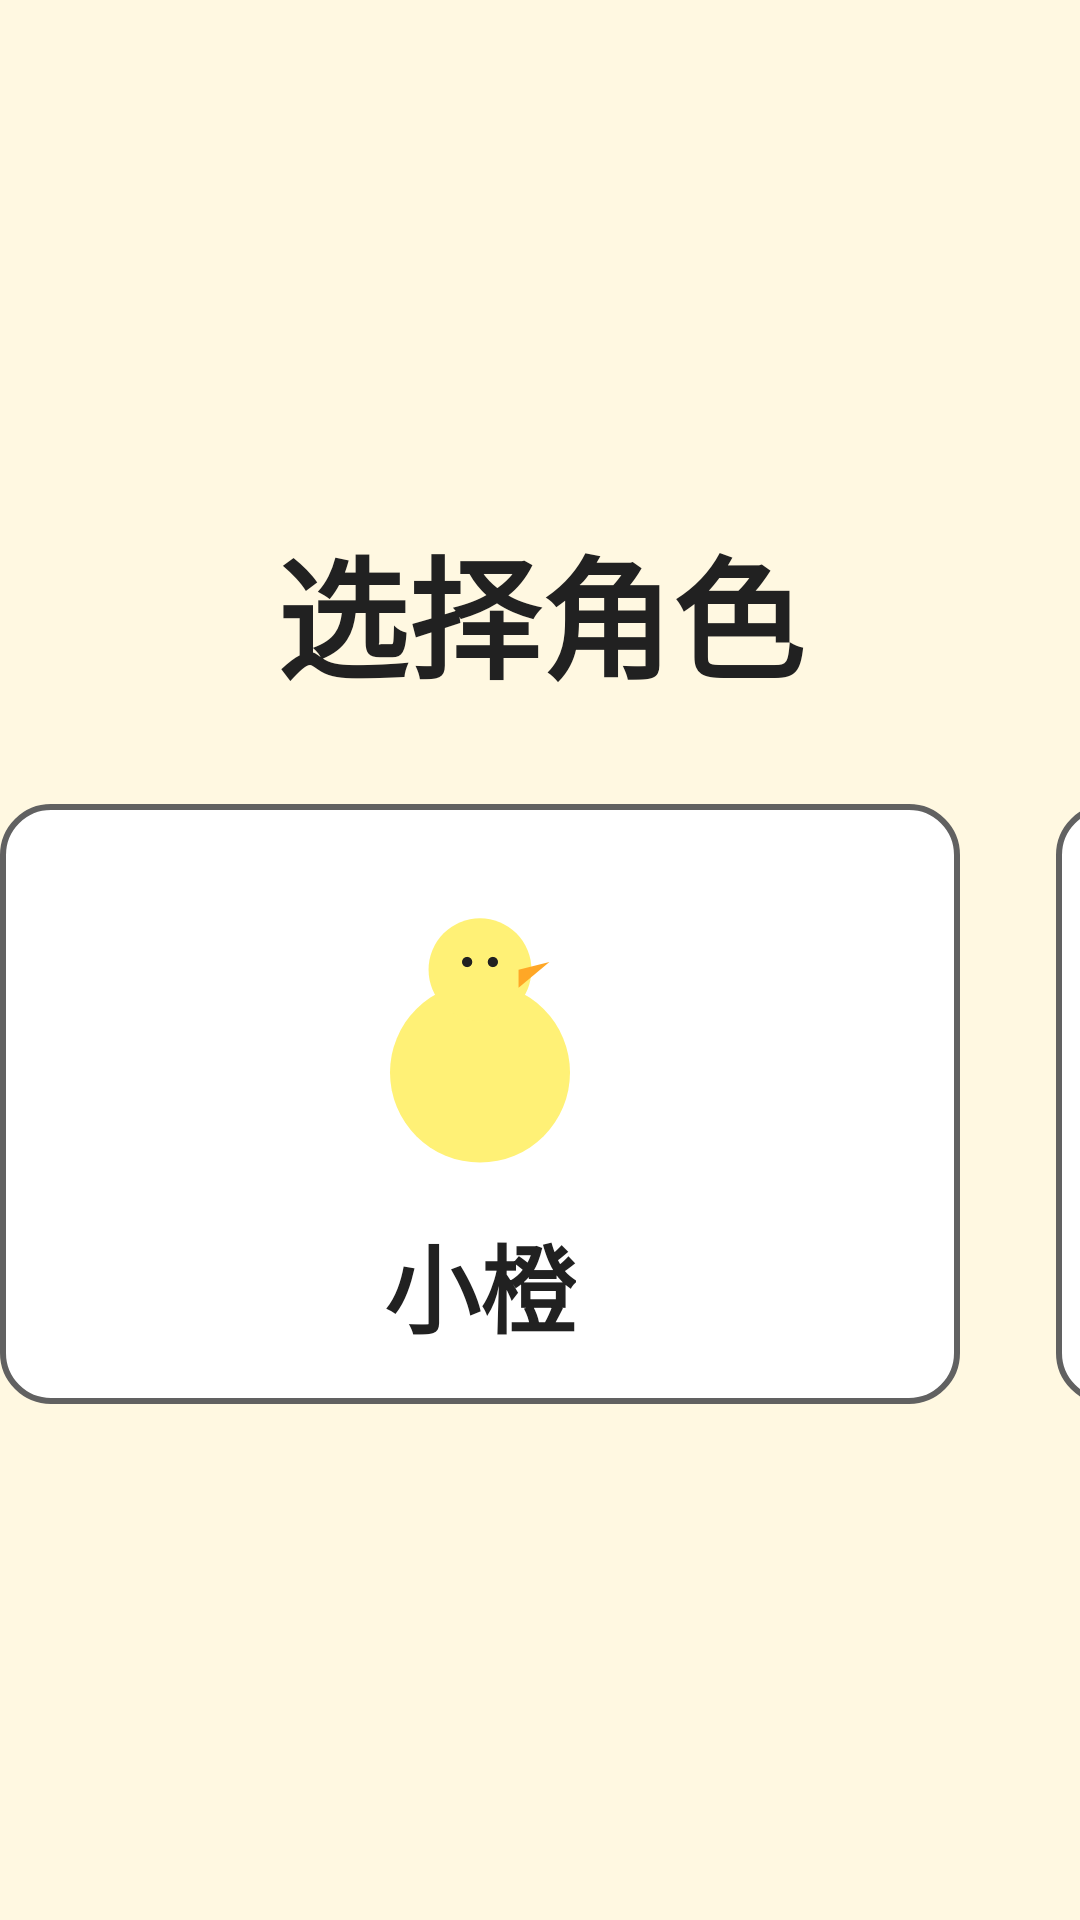

Screen size 1080×1920. Icon name, then its box in pixels as (x1, y1, x2, y2):
chick: (390, 918, 570, 1163)
